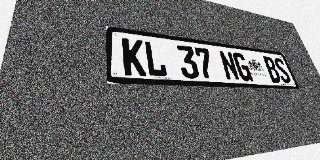3: (176, 45, 200, 79)
7: (193, 47, 216, 80)
B: (262, 56, 283, 83)
G: (232, 52, 254, 81)
K: (122, 38, 147, 76)
L: (143, 40, 168, 77)
N: (218, 50, 241, 81)
S: (272, 57, 292, 83)
